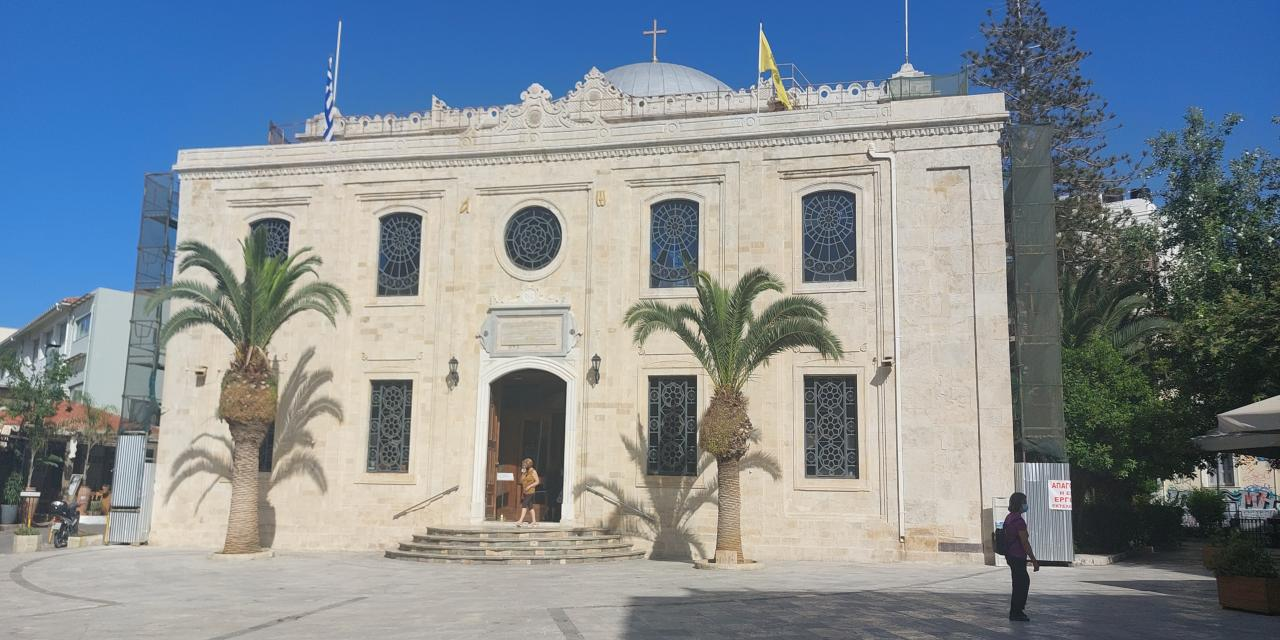Agios Titos: (145, 54, 1022, 563)
